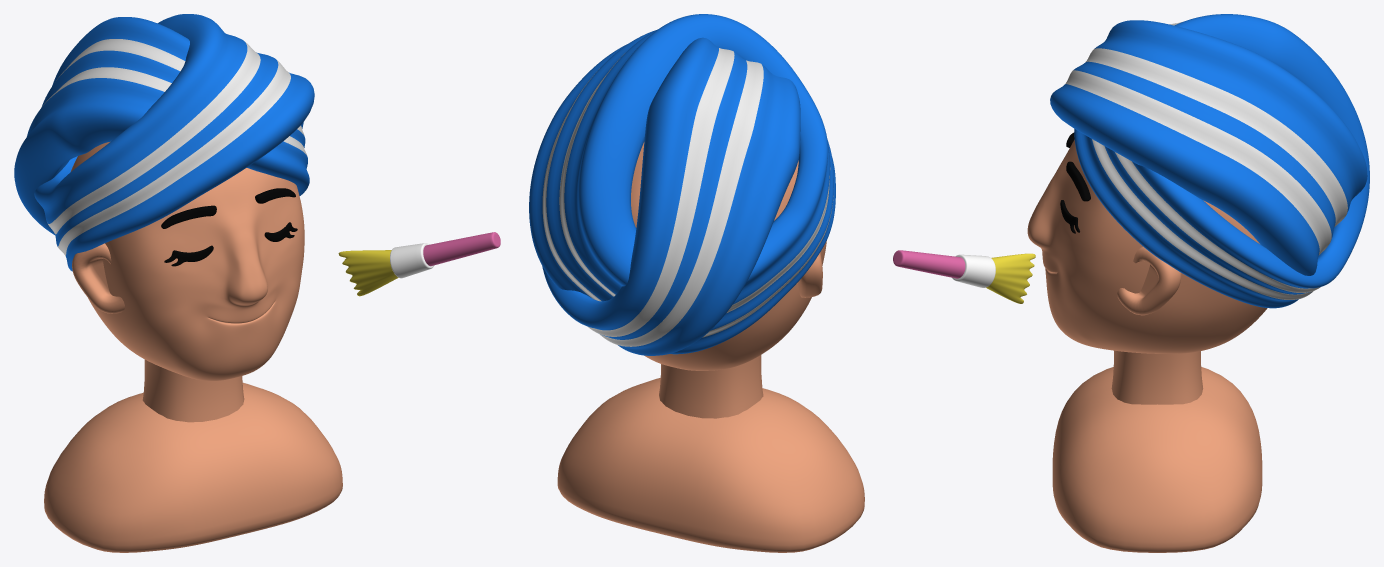
The model's file is facial-treatment-3d-animated-icon-255595737539.glb.
3 renders of one model, left to right at view 1: azimuth 30°, elevation 25°; view 2: azimuth 150°, elevation 25°; view 3: azimuth 270°, elevation 25°, orthographic. The views are drawn at different scales.
Parts seen in each view (by area): view 1: Cube.007, Base Model.003, BezierCircle.008, BezierCircle.009, Cube.001, Cube.029, Cylinder.024, Cylinder.025, Cylinder.023, Plane.050, Plane.048; view 2: BezierCircle.009, BezierCircle.008, Cube.007, Base Model.003, Cube.001, Cube.029; view 3: BezierCircle.008, Cube.007, BezierCircle.009, Base Model.003, Cube.001, Cube.028, Cylinder.024, Cylinder.025, Cylinder.023.
Part boxes in pixels (left/top/right/bottom): Cube.007: left=44, top=382, right=342, bottom=552; Base Model.003: left=71, top=142, right=304, bottom=380; BezierCircle.008: left=34, top=14, right=314, bottom=271; BezierCircle.009: left=14, top=17, right=309, bottom=234; Cube.001: left=142, top=359, right=244, bottom=422; Cube.029: left=72, top=243, right=124, bottom=313; Cylinder.024: left=338, top=250, right=398, bottom=296; Cylinder.025: left=423, top=232, right=500, bottom=266; Cylinder.023: left=390, top=243, right=434, bottom=278; Plane.050: left=161, top=188, right=295, bottom=228; Plane.048: left=164, top=222, right=297, bottom=266; BezierCircle.009: left=542, top=37, right=800, bottom=355; BezierCircle.008: left=529, top=14, right=835, bottom=354; Cube.007: left=557, top=378, right=864, bottom=552; Base Model.003: left=631, top=142, right=826, bottom=370; Cube.001: left=659, top=355, right=763, bottom=418; Cube.029: left=798, top=252, right=822, bottom=297; BezierCircle.008: left=1050, top=20, right=1367, bottom=275; Cube.007: left=1052, top=367, right=1262, bottom=552; BezierCircle.009: left=1074, top=14, right=1369, bottom=308; Base Model.003: left=1027, top=139, right=1267, bottom=353; Cube.001: left=1111, top=350, right=1203, bottom=404; Cube.028: left=1117, top=246, right=1181, bottom=315; Cylinder.024: left=986, top=253, right=1035, bottom=303; Cylinder.025: left=893, top=250, right=965, bottom=278; Cylinder.023: left=952, top=254, right=995, bottom=287.
Size of the model in its own units: 3.26 by 4.68 by 4.22.
